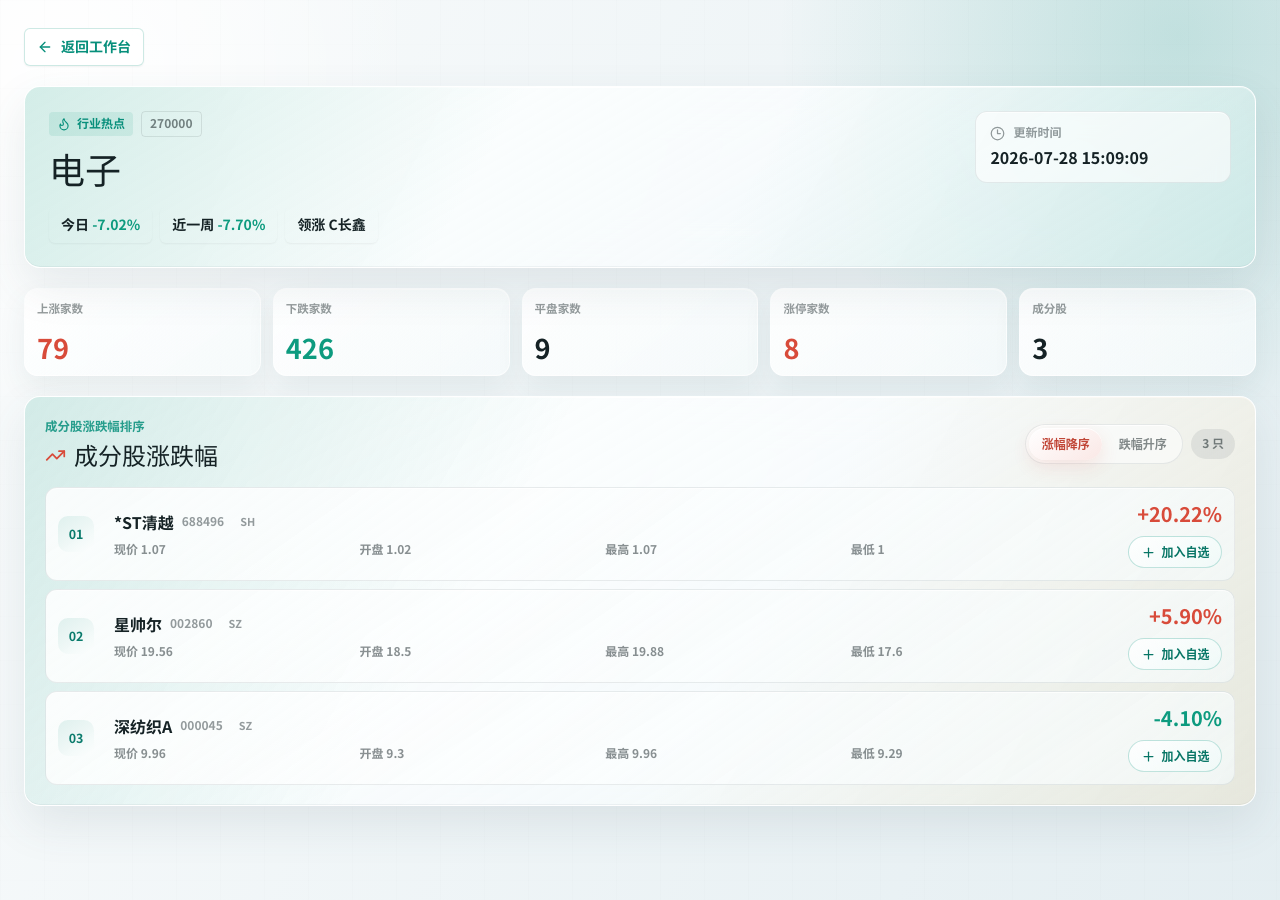
Test case: HotspotDetailView › marks duplicate stocks as already selected
Click the button with aria-label "加入自选 星帅尔": (1175, 654) [1128,638,1222,670]
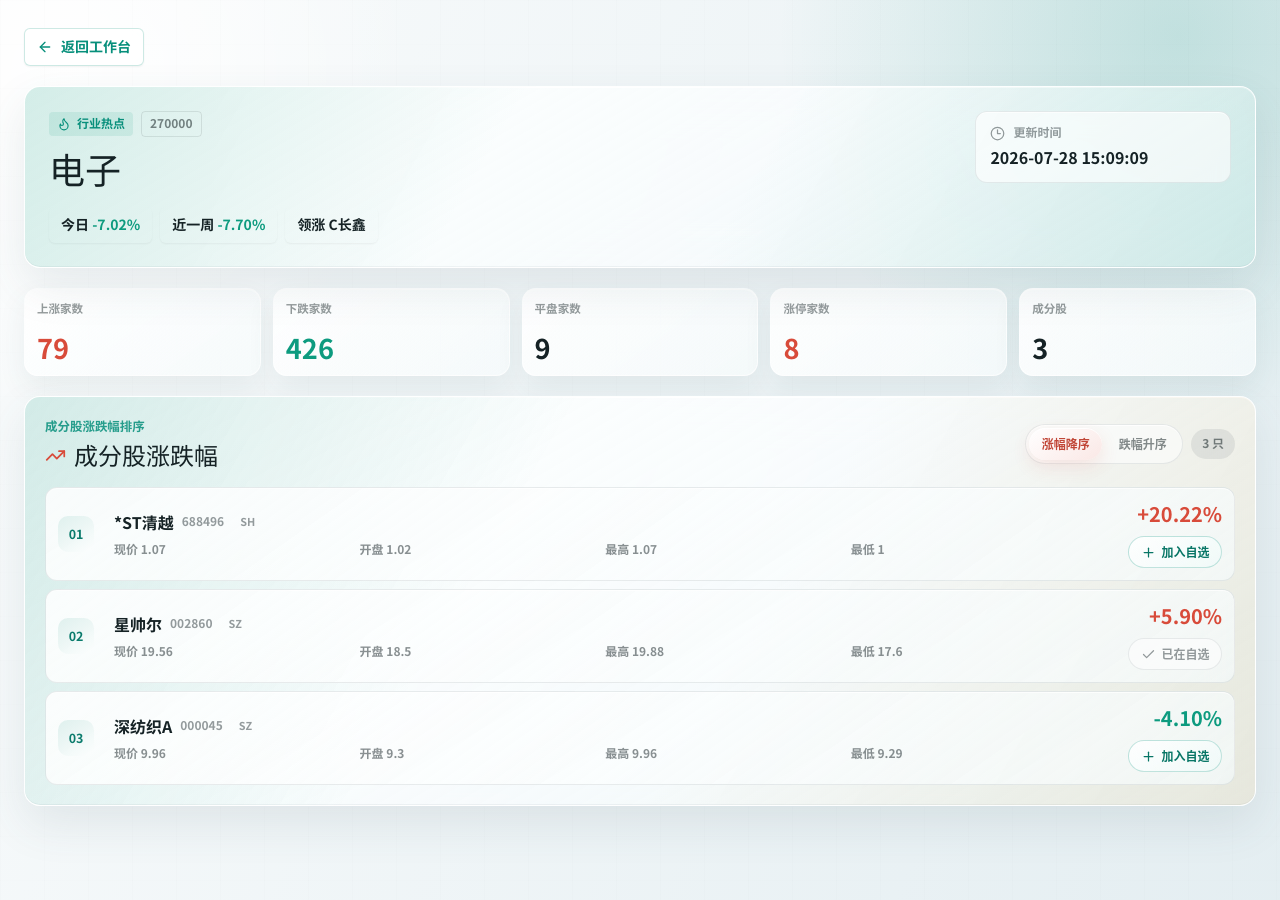
Expected: the button with aria-label "已在自选 星帅尔" is disabled, [1128,638,1222,670]
